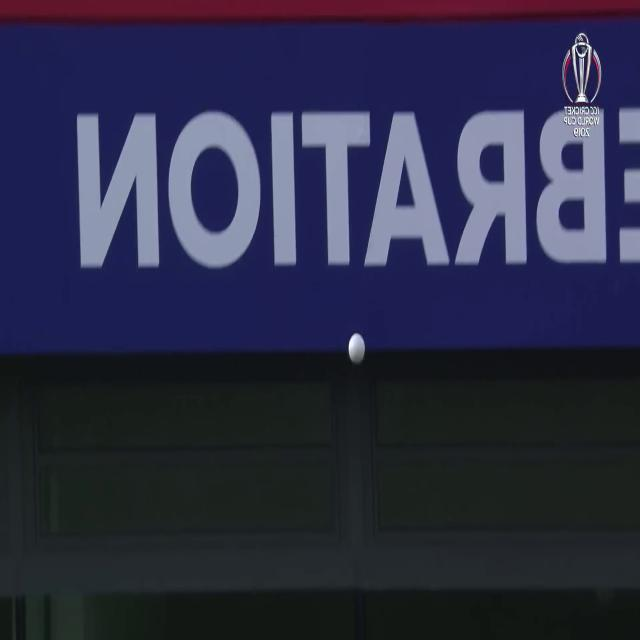ball: (343, 330, 370, 369)
